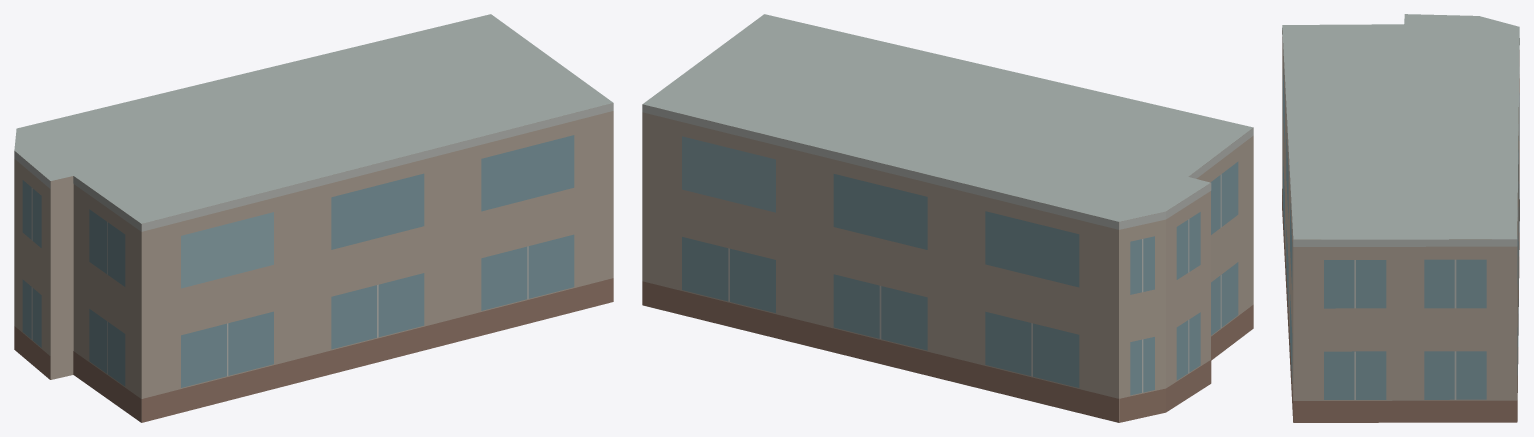
File: survey-upis-32738008.glb
3 renders of one model, left to right at view 1: azimuth 30°, elevation 25°; view 2: azimuth 150°, elevation 25°; view 3: azimuth 270°, elevation 25°, orthographic. The views are drawn at different scales.
Visible parts, largest first — view 1: survey-upis-32738008.tmp; view 2: survey-upis-32738008.tmp; view 3: survey-upis-32738008.tmp.
Boxes of the visible parts, <box> form: survey-upis-32738008.tmp: <box>14,14,613,422</box>; survey-upis-32738008.tmp: <box>642,14,1253,422</box>; survey-upis-32738008.tmp: <box>1282,14,1519,422</box>.
Size of the model in its own units: 16.14 by 6.1 by 7.18.
